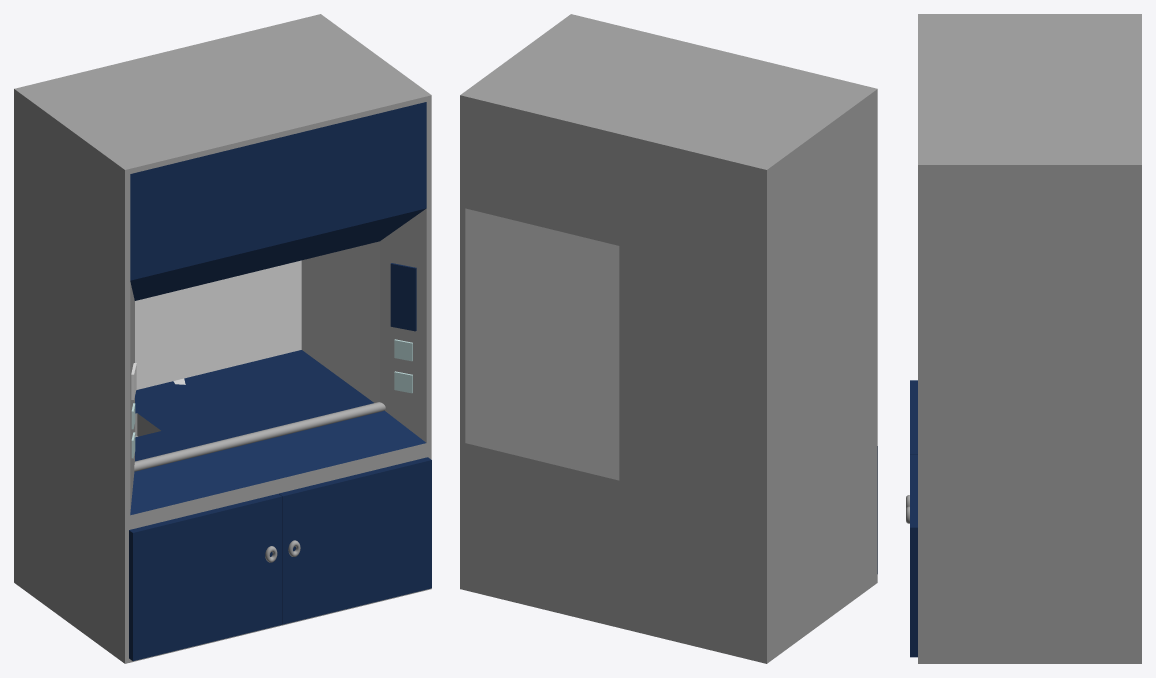
File: 通风橱2.fbx
3 views of the same model, side by side, from view 1: azimuth 30°, elevation 25°; view 2: azimuth 150°, elevation 25°; view 3: azimuth 270°, elevation 25° (orthographic).
Visible parts, largest first — view 1: guizi:polySurface9, guizi:polySurface10 (×2), guizi:polySurface12, guizi:polySurface5; view 2: guizi:polySurface9; view 3: guizi:polySurface9, guizi:polySurface10 (×2).
Boxes of the visible parts, x1,y1,x2,y2 form: guizi:polySurface9: (14,14,431,663); guizi:polySurface10 (×2): (129,457,431,660); guizi:polySurface12: (134,402,385,471); guizi:polySurface5: (390,263,416,331); guizi:polySurface9: (460,14,877,663); guizi:polySurface9: (918,14,1141,663); guizi:polySurface10 (×2): (910,380,917,657).
Bounding box in the file's own units: 17.93 × 27.59 × 11.82.
